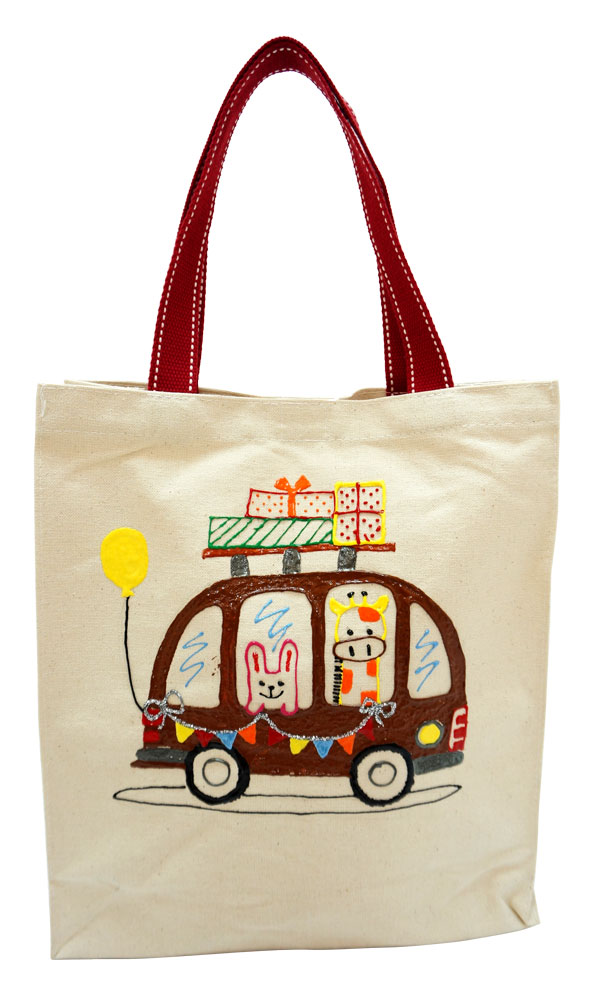flexible: (22, 38, 561, 949)
